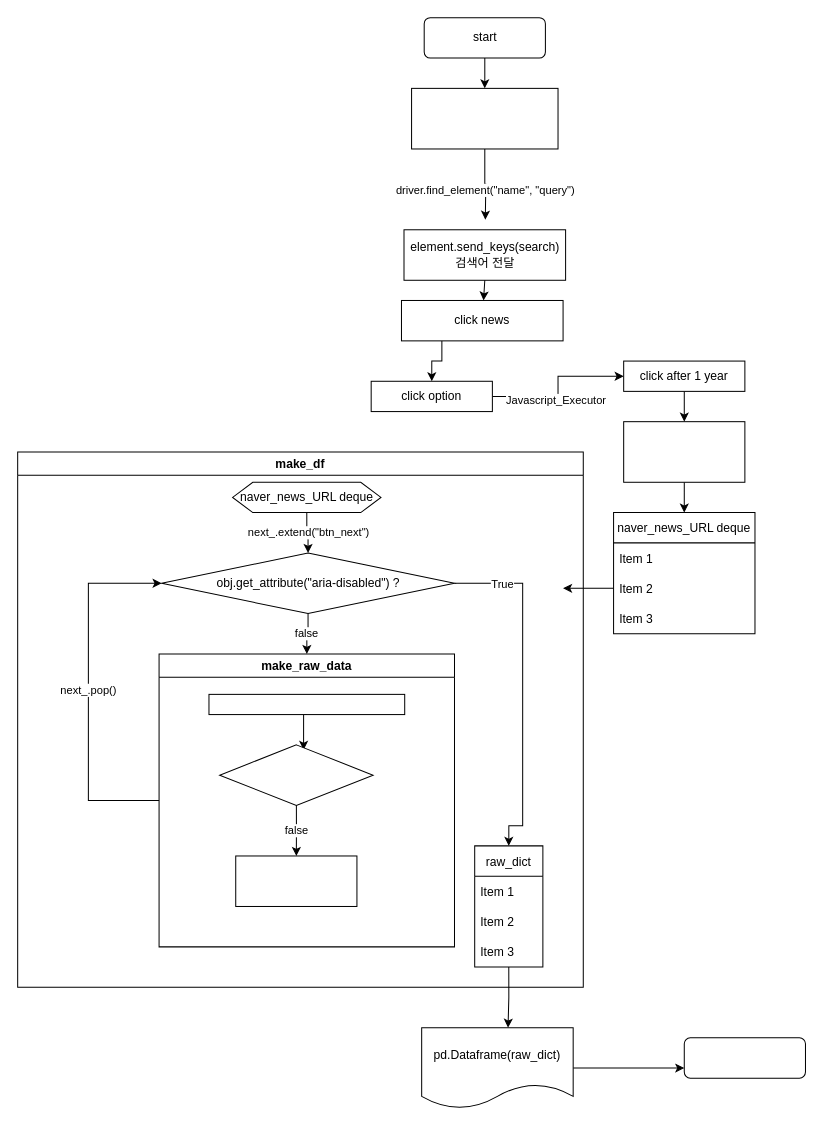
The diagram is 823 pixels wide and 1126 high, and some of its shapes have lost their labels. The centre of each missing label's shape, as x and y in pixels:
end: (744,1057)
find_naver_news(): (684,451)
put data in 4 lists contets, title, url, date: (296,880)
queue_ = naver_news_URL deque: (306,704)
queue_ is Empty?: (296,774)
search = '오아시스마켓': (484,118)
